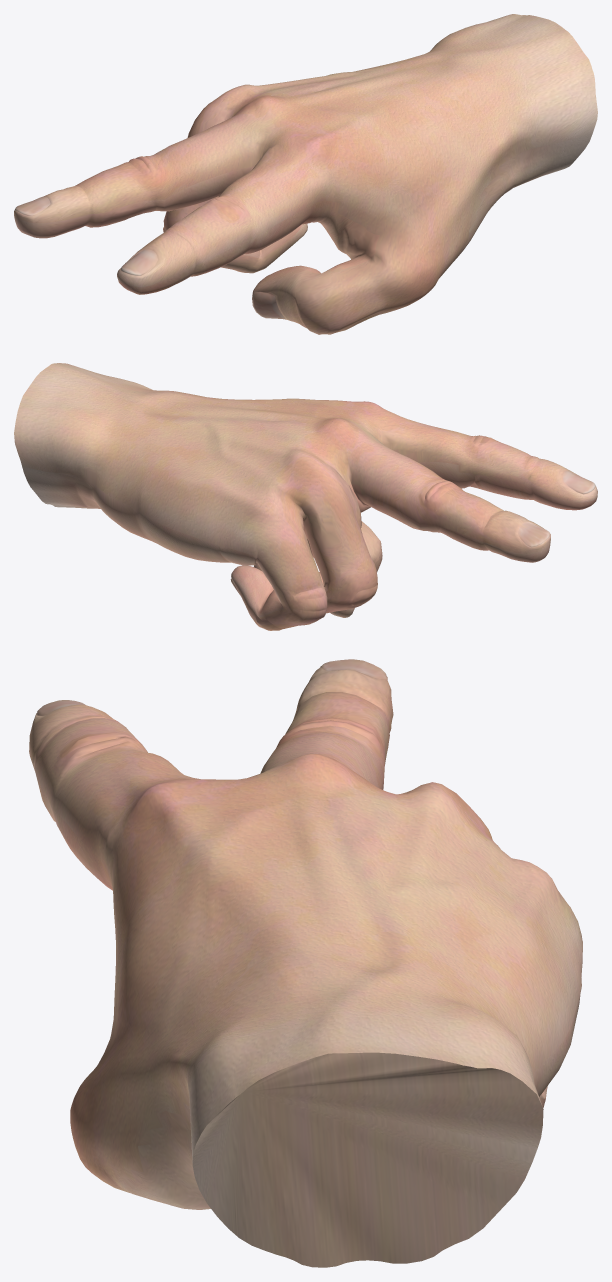
The model's file is hand_28.obj.
The picture shows the model from 3 angles, top to bottom: view 1: azimuth 30°, elevation 25°; view 2: azimuth 150°, elevation 25°; view 3: azimuth 270°, elevation 25°; orthographic projection. The views are drawn at different scales.
Parts seen in each view (by area): view 1: Figure_2; view 2: Figure_2; view 3: Figure_2.
Boxes of the visible parts, <box> form: Figure_2: <box>14,14,597,334</box>; Figure_2: <box>14,363,597,630</box>; Figure_2: <box>29,659,582,1267</box>.
Bounding box in the file's own units: 0.8967 × 0.3392 × 0.4261.
2 materials, 2 textured.
